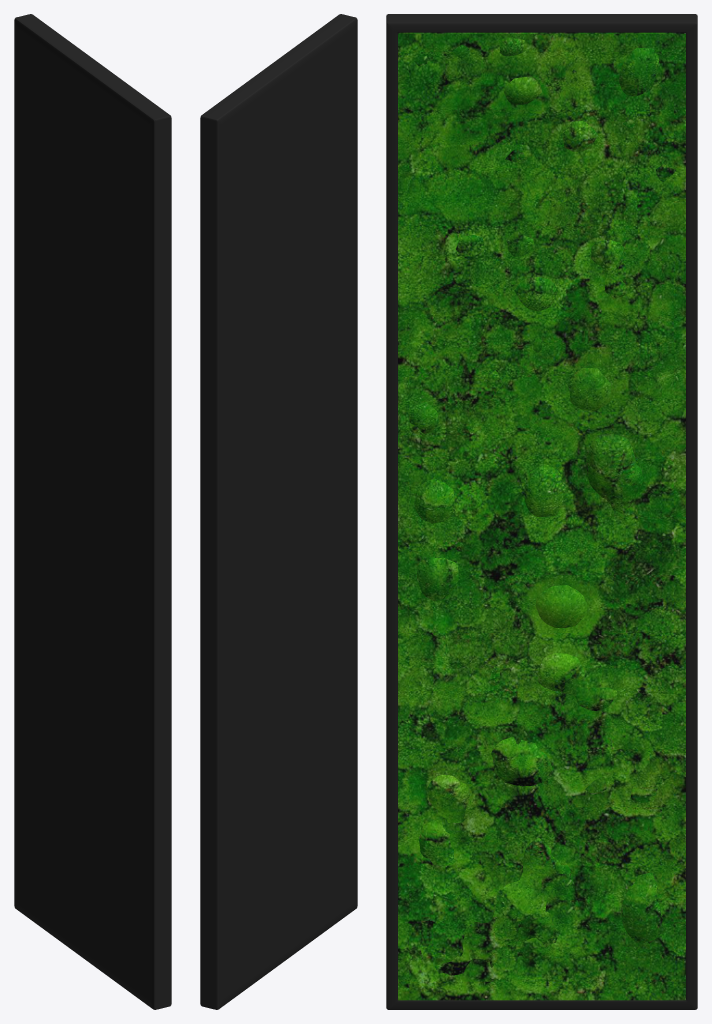
The model's file is Moosbild_Hugelmoos_1400x400mm_black.fbx.
3 views of the same model, side by side, from view 1: azimuth 30°, elevation 25°; view 2: azimuth 150°, elevation 25°; view 3: azimuth 270°, elevation 25° (orthographic). The views are drawn at different scales.
Parts seen in each view (by area): view 1: edge; view 2: edge; view 3: moss_low, moss11, edge.
Part boxes in pixels (x1,y1,x2,y2): edge: (14,14,171,1009); edge: (200,14,357,1009); moss_low: (398,33,685,1000); moss11: (398,32,685,975); edge: (386,14,697,1009).
Size of the model in its own units: 4.21 by 140 by 40.
2 materials, 1 textured.
